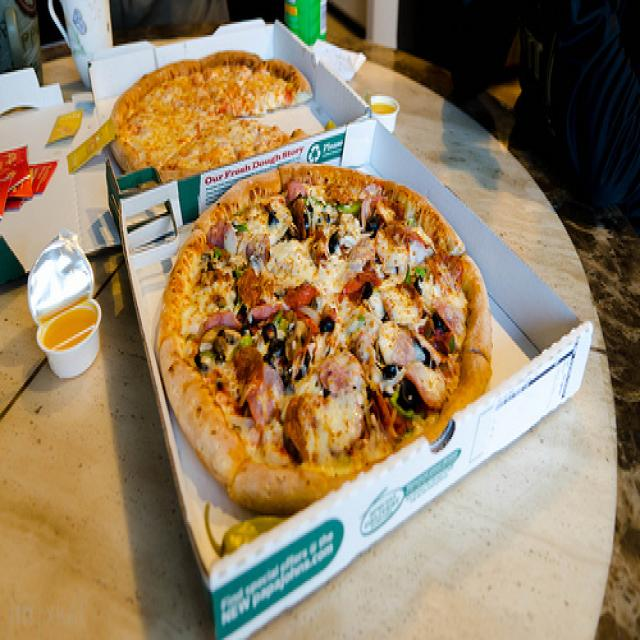Wet Waste: (155, 160, 498, 516)
